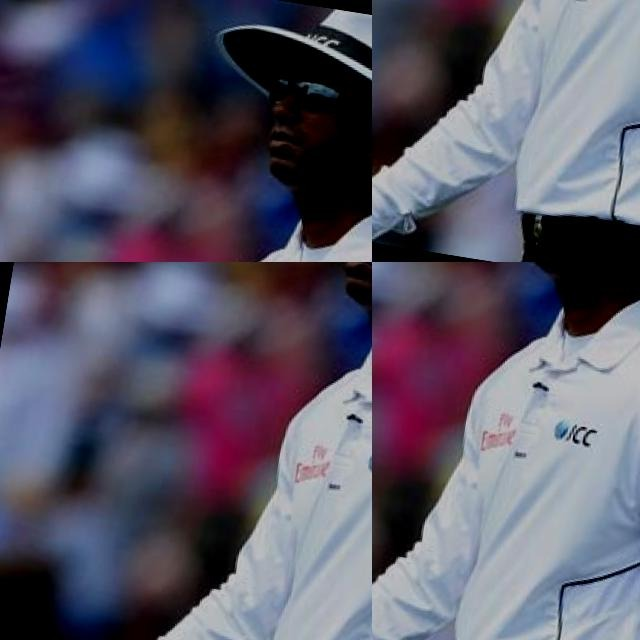No_Action: (20, 262, 372, 640), (238, 17, 372, 262)
No_Ball: (372, 262, 640, 640), (372, 0, 640, 262)
